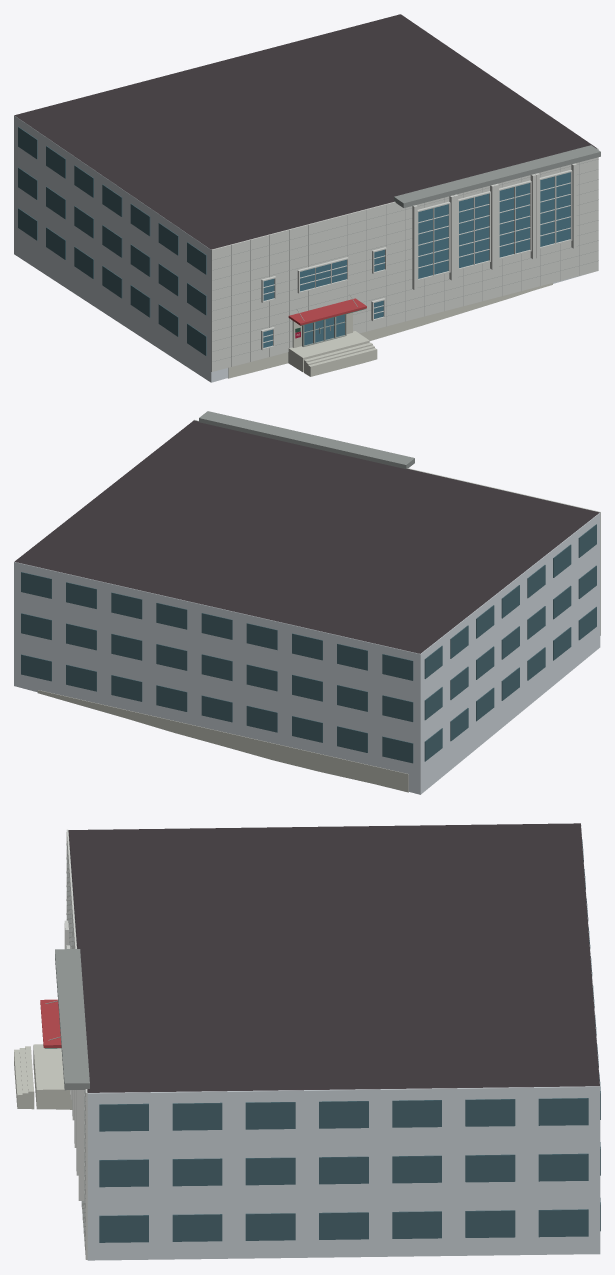
Rendered from intact.glb.
The picture shows the model from 3 angles, top to bottom: view 1: azimuth 30°, elevation 25°; view 2: azimuth 150°, elevation 25°; view 3: azimuth 270°, elevation 25°; orthographic projection. The views are drawn at different scales.
Visible parts, largest first — view 1: SM_468931924_Intact_00, SM_468931924_Intact_02, SM_468931924_Intact_01, SM_468931924_Intact_05, SM_468931924_Intact_09, SM_468931924_Intact_10, SM_468931924_Intact_03, SM_468931924_Intact_28, SM_468931924_Intact_06, SM_468931924_Intact_27, SM_468931924_Intact_04, SM_468931924_Intact_11 (+6 smaller); view 2: SM_468931924_Intact_00, SM_468931924_Intact_01, SM_468931924_Intact_28, SM_468931924_Intact_10; view 3: SM_468931924_Intact_00, SM_468931924_Intact_01, SM_468931924_Intact_10, SM_468931924_Intact_26, SM_468931924_Intact_02, SM_468931924_Intact_27, SM_468931924_Intact_09, SM_468931924_Intact_23.
Part boxes in pixels (bbox=[...]): SM_468931924_Intact_00: bbox=[14, 14, 597, 382]; SM_468931924_Intact_02: bbox=[211, 148, 598, 371]; SM_468931924_Intact_01: bbox=[18, 126, 206, 355]; SM_468931924_Intact_05: bbox=[418, 172, 570, 278]; SM_468931924_Intact_09: bbox=[412, 163, 576, 290]; SM_468931924_Intact_10: bbox=[394, 145, 600, 207]; SM_468931924_Intact_03: bbox=[212, 159, 598, 361]; SM_468931924_Intact_28: bbox=[228, 283, 552, 378]; SM_468931924_Intact_06: bbox=[417, 170, 572, 280]; SM_468931924_Intact_27: bbox=[304, 342, 377, 376]; SM_468931924_Intact_04: bbox=[231, 162, 579, 366]; SM_468931924_Intact_11: bbox=[263, 249, 384, 300]; SM_468931924_Intact_00: bbox=[14, 420, 600, 794]; SM_468931924_Intact_01: bbox=[21, 524, 596, 763]; SM_468931924_Intact_28: bbox=[37, 690, 408, 792]; SM_468931924_Intact_10: bbox=[199, 411, 414, 468]; SM_468931924_Intact_00: bbox=[68, 823, 600, 1260]; SM_468931924_Intact_01: bbox=[99, 840, 600, 1242]; SM_468931924_Intact_10: bbox=[55, 949, 89, 1090]; SM_468931924_Intact_26: bbox=[33, 1044, 72, 1109]; SM_468931924_Intact_02: bbox=[66, 829, 87, 1259]; SM_468931924_Intact_27: bbox=[14, 1046, 34, 1109]; SM_468931924_Intact_09: bbox=[70, 1090, 84, 1200]; SM_468931924_Intact_23: bbox=[40, 999, 61, 1047].
Size of the model in its own units: 2.2 by 0.7448 by 2.02.
